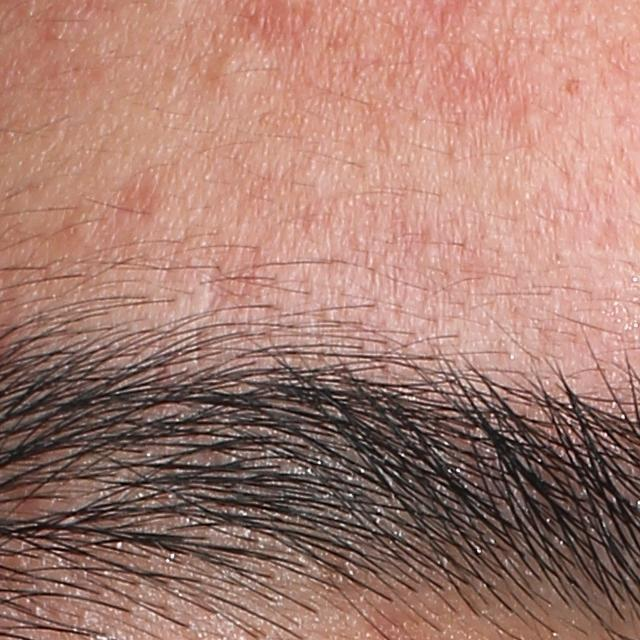comedo: (512, 100, 547, 136), (213, 50, 247, 83)
